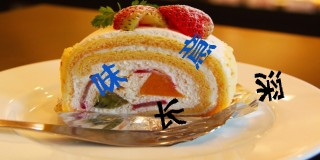味: (90, 63, 128, 97)
意: (178, 32, 217, 70)
深: (253, 70, 285, 102)
长: (154, 97, 187, 130)
